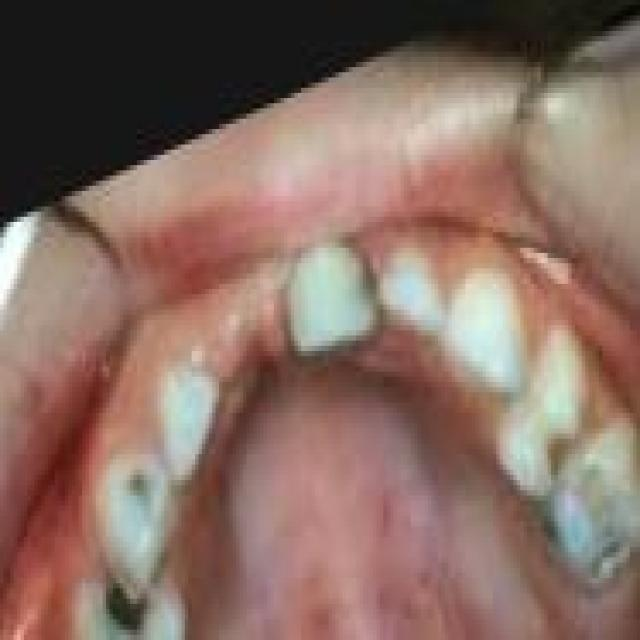caries: (530, 439, 640, 588), (89, 550, 170, 640), (114, 454, 164, 538)
